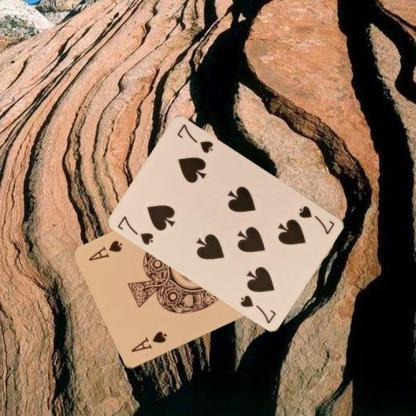7s: (115, 212, 155, 246), (296, 203, 336, 236)
As: (128, 329, 168, 354)
